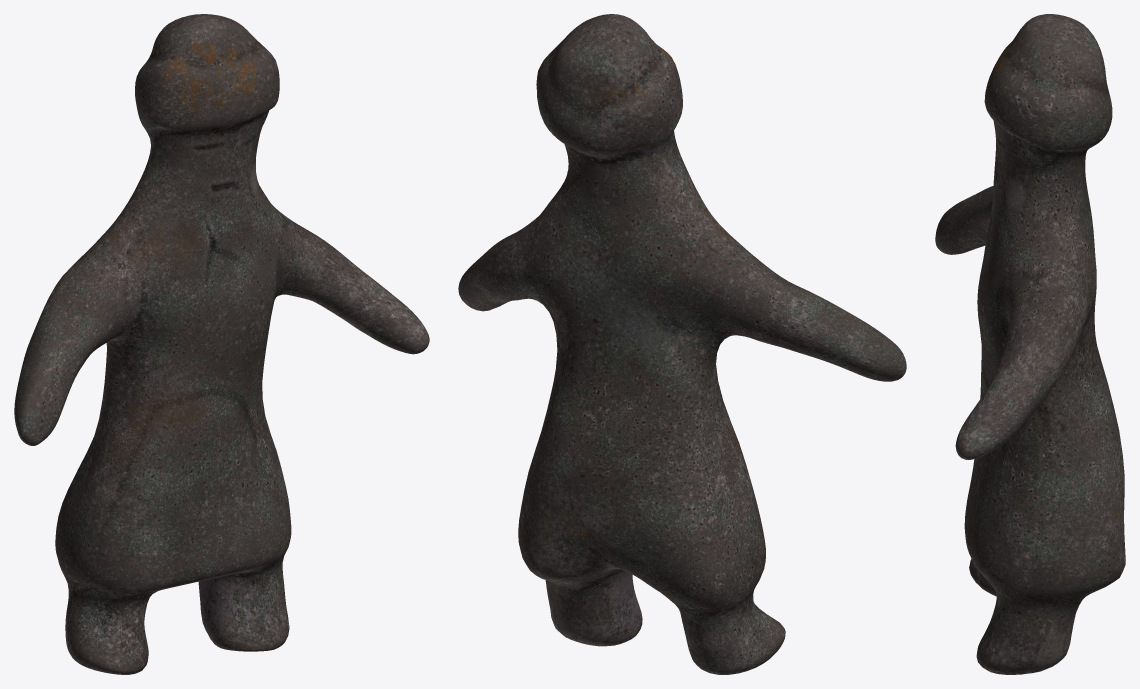
The model's file is toou-v2.glb.
The picture shows the model from 3 angles, left to right: view 1: azimuth 30°, elevation 25°; view 2: azimuth 150°, elevation 25°; view 3: azimuth 270°, elevation 25°; orthographic projection. The views are drawn at different scales.
Parts seen in each view (by area): view 1: SM_AR10001_High; view 2: SM_AR10001_High; view 3: SM_AR10001_High.
Boxes of the visible parts, <box> form: SM_AR10001_High: <box>14,14,429,674</box>; SM_AR10001_High: <box>458,14,906,674</box>; SM_AR10001_High: <box>935,14,1125,674</box>.
Size of the model in its own units: 0.0693 by 0.0979 by 0.0267.
Materials: 1 (1 with a texture image).
